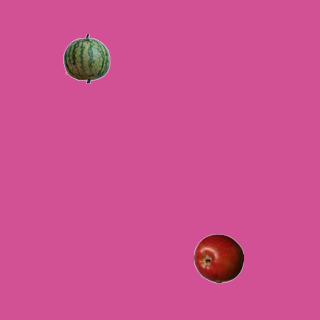Apple Braeburn: (193, 233, 243, 283)
Watermelon: (61, 33, 111, 83)
